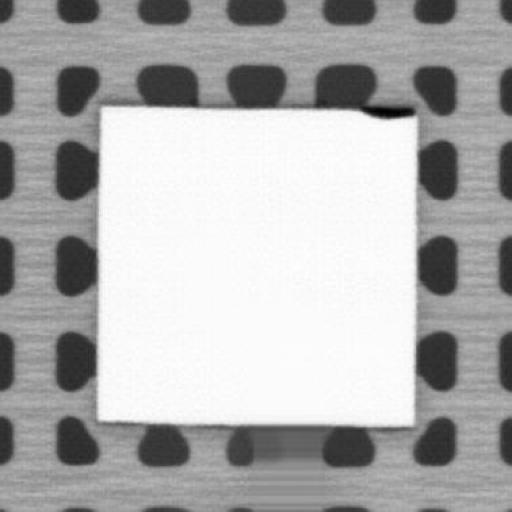DIE_BROKEN: (356, 102, 417, 118)
